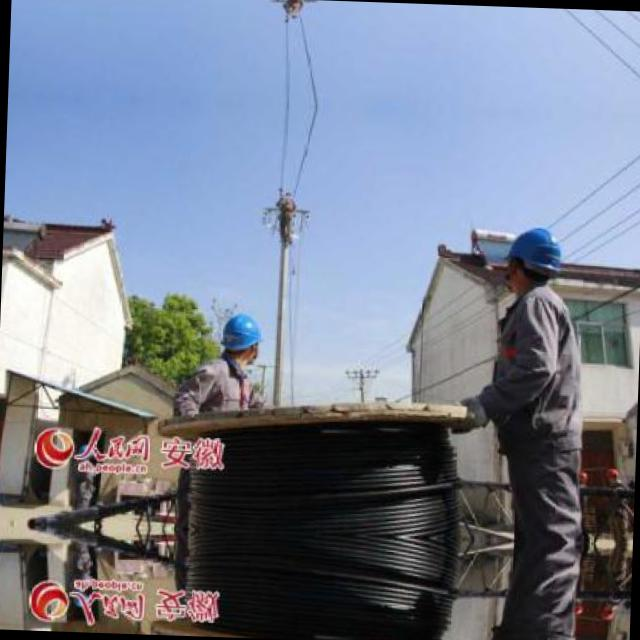helmet: (502, 220, 564, 296), (219, 306, 266, 368)
